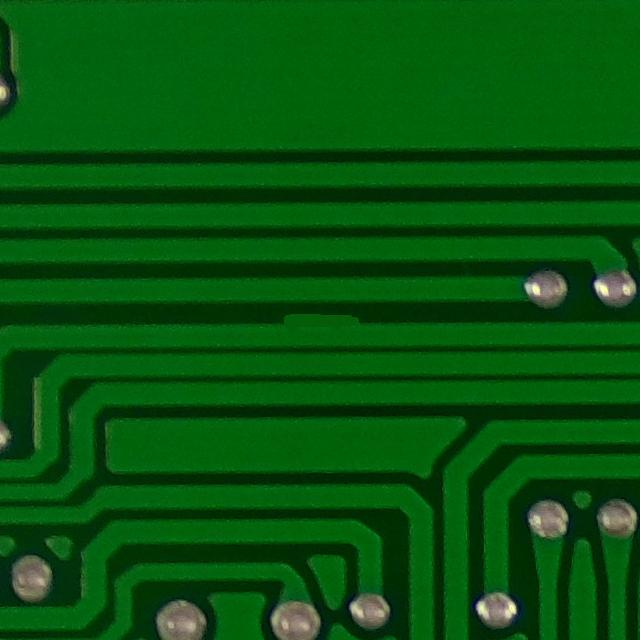spur: (270, 298, 371, 343)
